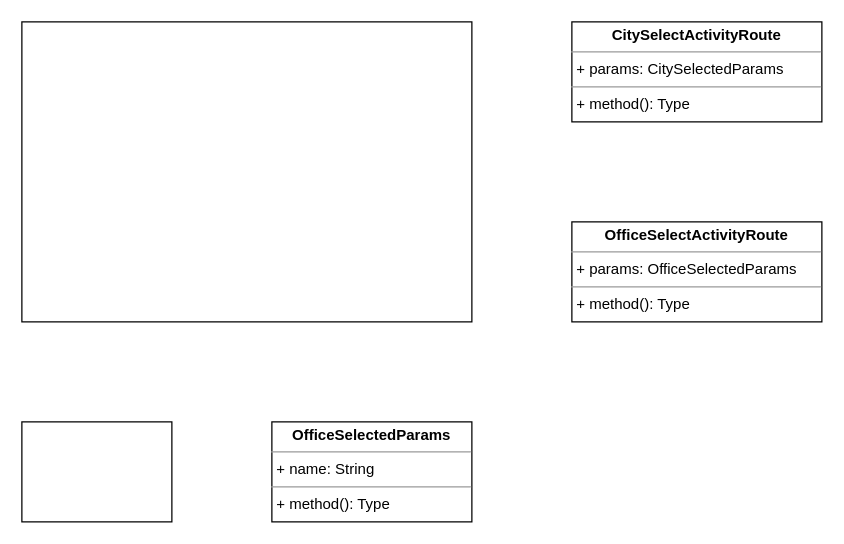
This 844x544 diagram has some shape labels left out. The box of each missing label's shape, as (x1, y1, x2, y2) in pixels:
CitySelectedParams + name: String + method(): Type: (21, 421, 172, 522)
SelectItemActivityView + field: Type + method(): Type: (21, 21, 472, 322)
